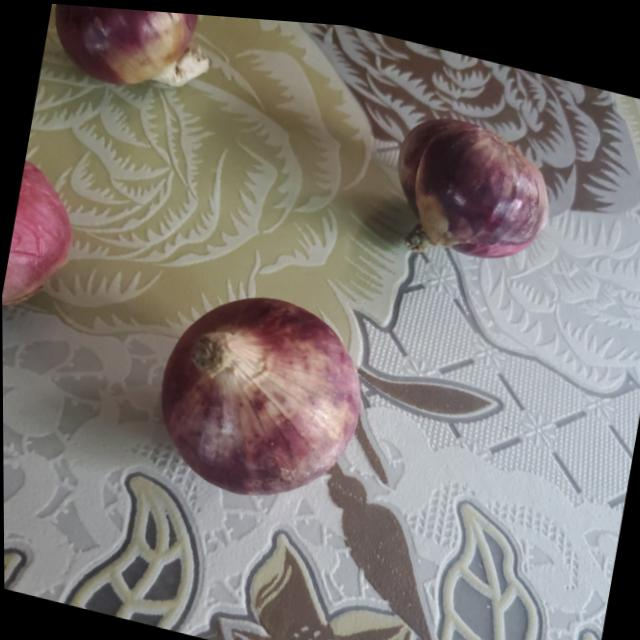onion: (145, 274, 375, 518), (385, 100, 556, 261), (41, 2, 225, 99), (1, 160, 83, 322)
